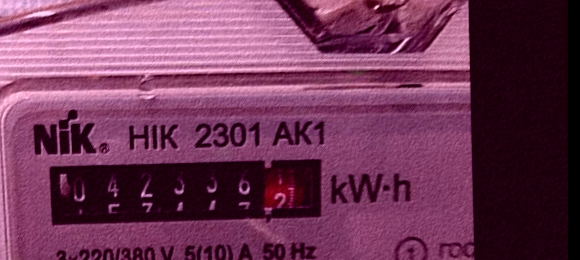0: (68, 178, 85, 206)
1: (271, 167, 284, 190)
2: (136, 172, 153, 202), (270, 193, 286, 212)
3: (200, 168, 217, 198), (168, 171, 184, 199)
4: (102, 172, 120, 201)
6: (234, 169, 252, 199)
screen: (36, 149, 334, 237)
